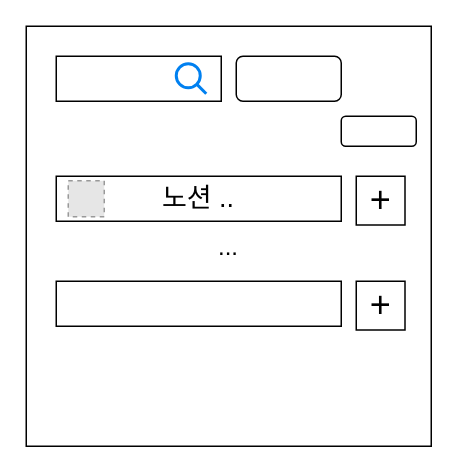
Image size: 458x473. Some labels were removed from this diagram. Grey dashed boxes stand in for pictures. Here are the shapes that lost their labels. From the top down, the box of each, then its label:
(235, 55, 341, 101): 카테고리
(340, 115, 416, 146): 인기도 순
